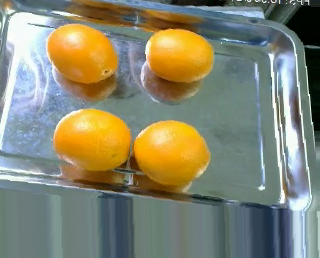Orange: (132, 119, 209, 185), (53, 108, 131, 172), (46, 22, 118, 83), (145, 27, 215, 82)
